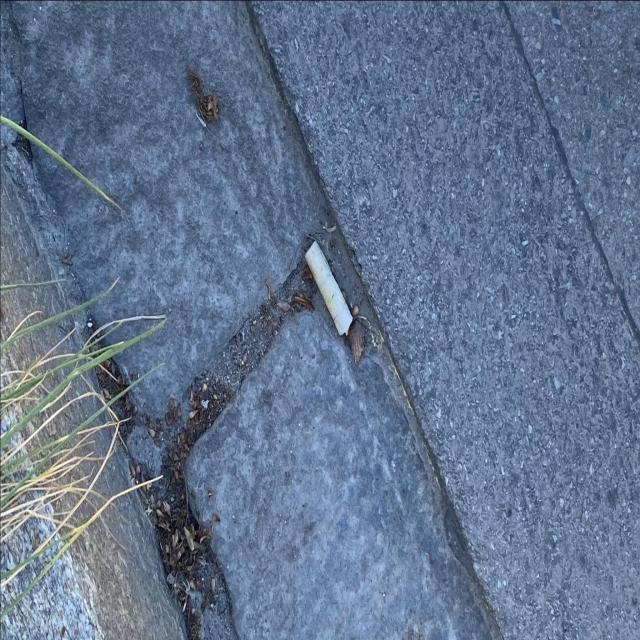other waste: (304, 238, 353, 336)
